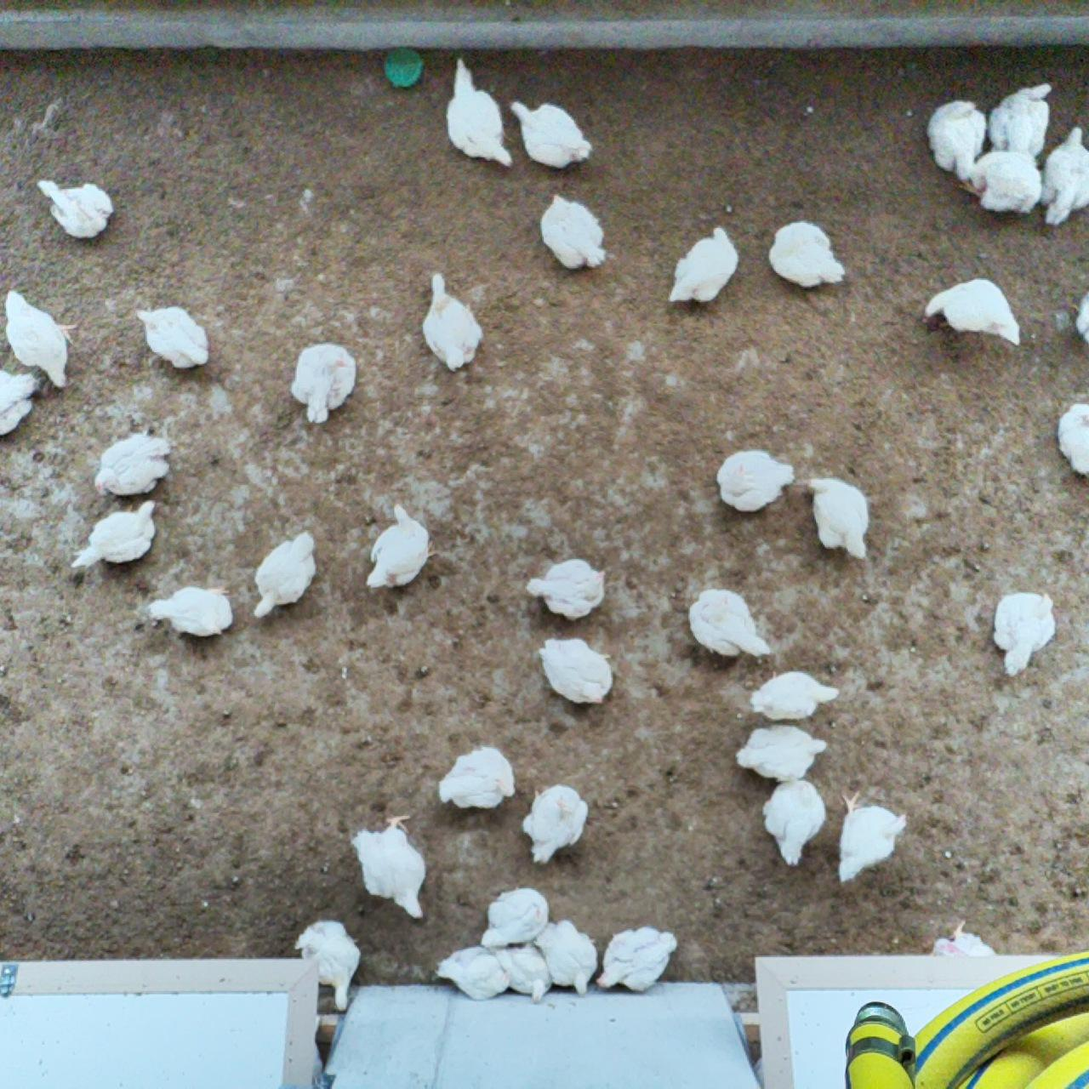chicken: (353, 815, 429, 920), (447, 61, 515, 167), (5, 289, 77, 389), (292, 917, 365, 1011), (836, 792, 907, 884), (926, 277, 1020, 346), (421, 274, 484, 373), (367, 504, 441, 588), (73, 498, 159, 568), (684, 591, 770, 661), (510, 100, 593, 170), (594, 927, 679, 994), (993, 590, 1057, 678), (89, 433, 177, 496), (806, 474, 871, 559), (765, 777, 825, 868), (256, 532, 320, 617), (736, 724, 828, 783), (961, 148, 1041, 215), (523, 783, 588, 865), (666, 229, 736, 305), (289, 343, 357, 421), (1038, 122, 1089, 226), (539, 637, 614, 707), (987, 84, 1054, 161), (768, 221, 845, 287), (717, 448, 796, 512), (439, 745, 515, 810), (749, 671, 842, 724), (536, 918, 598, 996), (544, 195, 607, 271), (531, 560, 608, 622), (927, 98, 986, 178), (482, 885, 551, 952), (139, 308, 212, 371), (38, 178, 113, 238), (150, 585, 235, 636), (439, 946, 509, 1002), (498, 943, 556, 1005), (0, 370, 41, 436), (929, 920, 999, 958), (1058, 402, 1089, 477), (1076, 289, 1089, 345)
